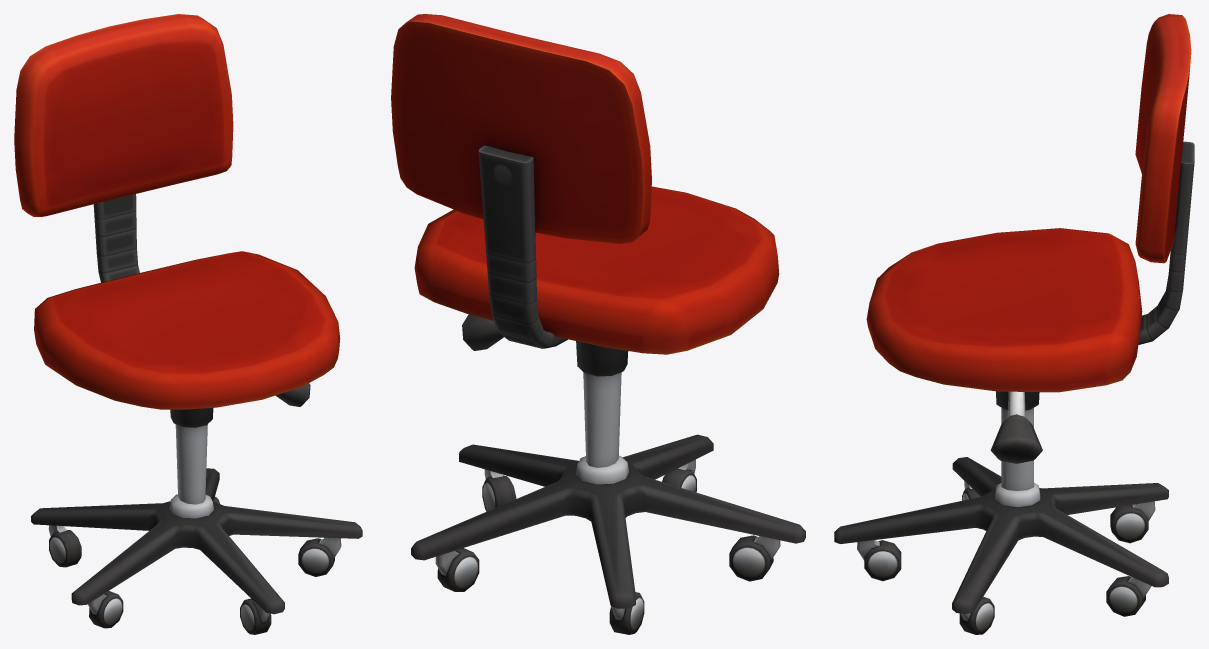
The model's file is OfficeChair01.FBX.
The picture shows the model from 3 angles, left to right: view 1: azimuth 30°, elevation 25°; view 2: azimuth 150°, elevation 25°; view 3: azimuth 270°, elevation 25°; orthographic projection. The views are drawn at different scales.
Parts seen in each view (by area): view 1: OfficeChair01; view 2: OfficeChair01; view 3: OfficeChair01.
Boxes of the visible parts, x1,y1,x2,y2 form: OfficeChair01: (14,14,362,634); OfficeChair01: (391,14,805,634); OfficeChair01: (834,14,1194,634).
Size of what is drawn, in the model's own units: 0.7247 by 1.2 by 0.7422.
